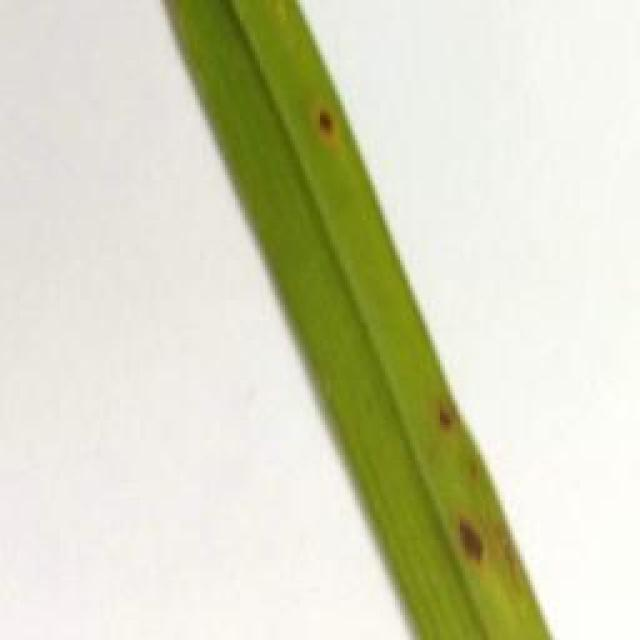Brown_Spot: (443, 502, 499, 574), (304, 93, 346, 151), (431, 397, 467, 444)
